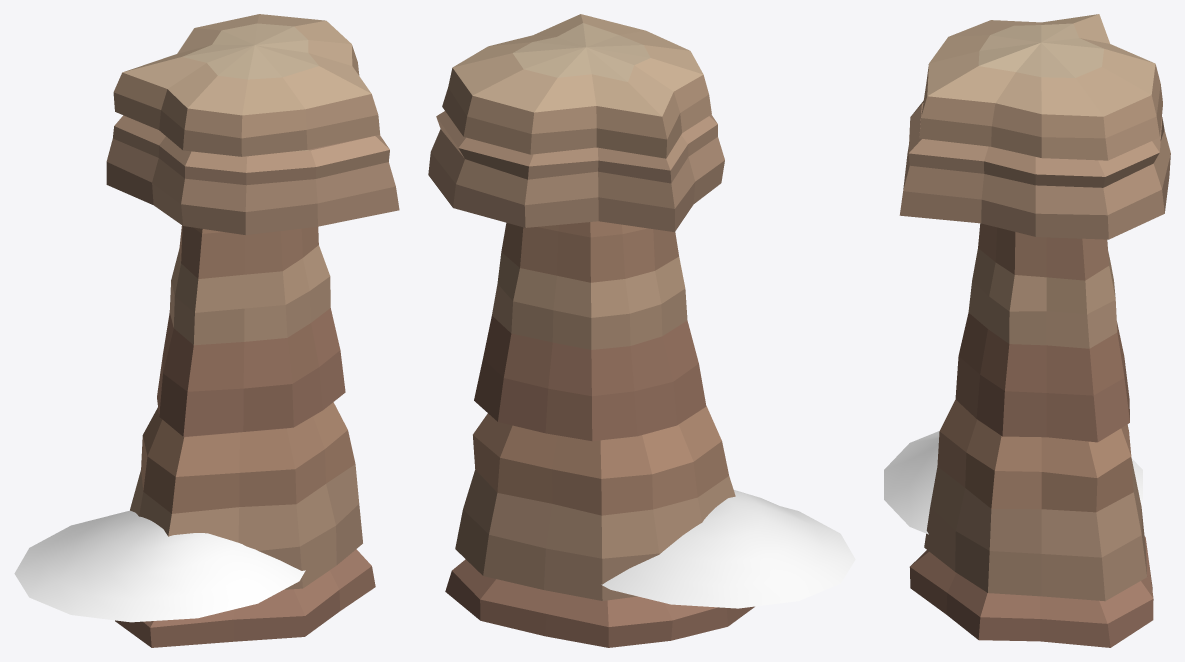
Rendered from roca_canon_d.glb.
The picture shows the model from 3 angles, left to right: view 1: azimuth 30°, elevation 25°; view 2: azimuth 150°, elevation 25°; view 3: azimuth 270°, elevation 25°; orthographic projection. The views are drawn at different scales.
Visible parts, largest first — view 1: roca_canon_d, roca_canon_d_arena; view 2: roca_canon_d, roca_canon_d_arena; view 3: roca_canon_d, roca_canon_d_arena.
Boxes of the visible parts, left/top/right/bottom form: roca_canon_d: left=106, top=14, right=399, bottom=647; roca_canon_d_arena: left=14, top=510, right=305, bottom=622; roca_canon_d: left=428, top=14, right=754, bottom=647; roca_canon_d_arena: left=601, top=490, right=855, bottom=608; roca_canon_d: left=899, top=14, right=1170, bottom=647; roca_canon_d_arena: left=884, top=431, right=1142, bottom=534.
Bounding box in the file's own units: 4.83 × 6.89 × 3.24.
